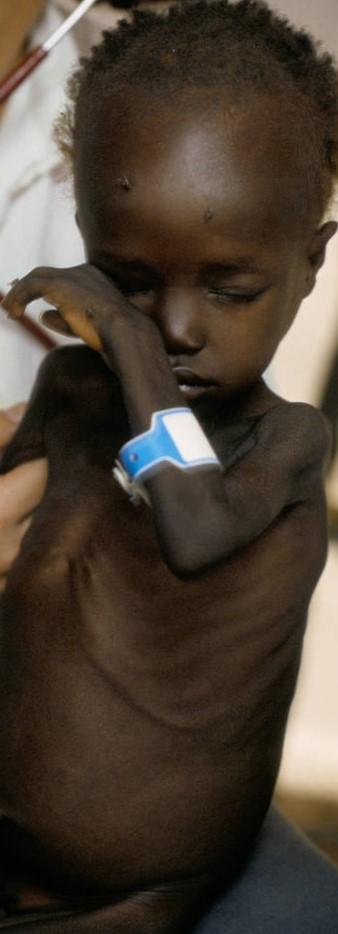Stunting: (17, 18, 338, 498)
